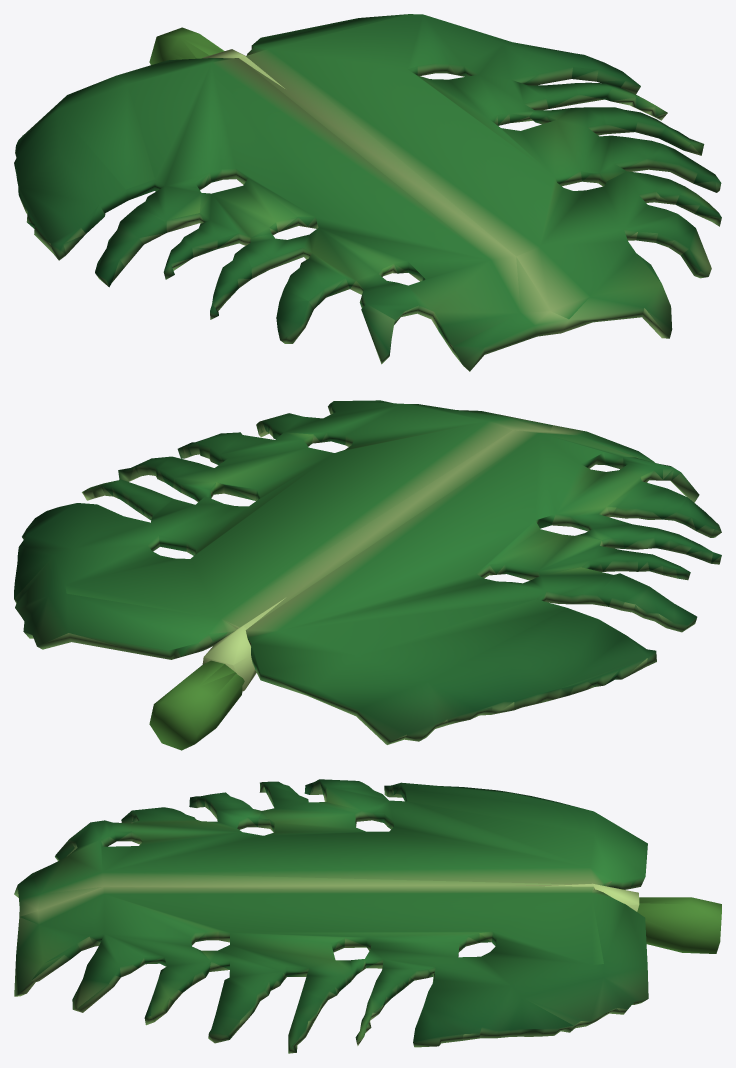
The model's file is canopy_monstera_leaf_b_lod2.glb.
3 views of the same model, one above another, from view 1: azimuth 30°, elevation 25°; view 2: azimuth 150°, elevation 25°; view 3: azimuth 270°, elevation 25° (orthographic). The views are drawn at different scales.
Visible parts, largest first — view 1: canopy_monstera_leaf_b.001; view 2: canopy_monstera_leaf_b.001; view 3: canopy_monstera_leaf_b.001.
Boxes of the visible parts, x1,y1,x2,y2 form: canopy_monstera_leaf_b.001: [14, 14, 721, 371]; canopy_monstera_leaf_b.001: [14, 400, 721, 750]; canopy_monstera_leaf_b.001: [14, 779, 721, 1053].
Bounding box in the file's own units: 10.91 × 1.34 × 12.41.
